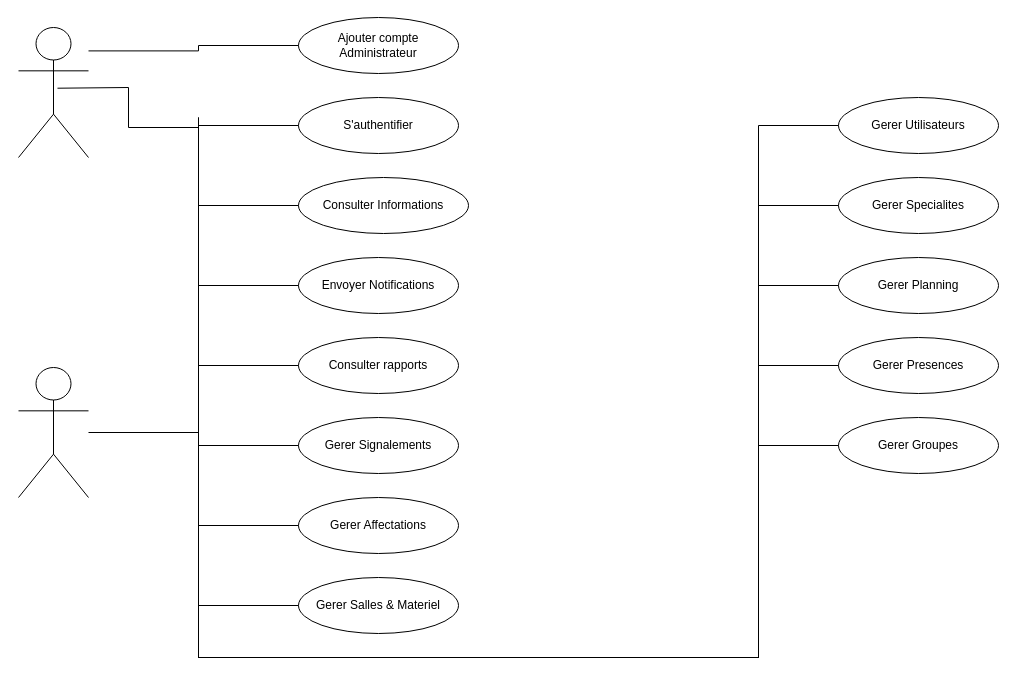
Image size: 1016x676. Some labels were removed from this diagram. Each missing label, with the centre of its shape:
Moderateur: pixel 53 432
Utilisateur: pixel 53 92
